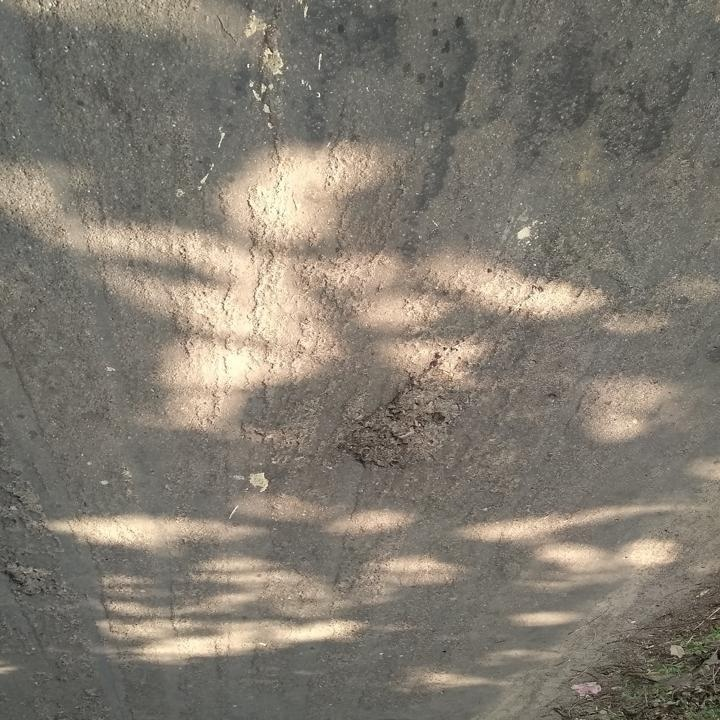pothole: (335, 337, 467, 475), (0, 558, 58, 599)
